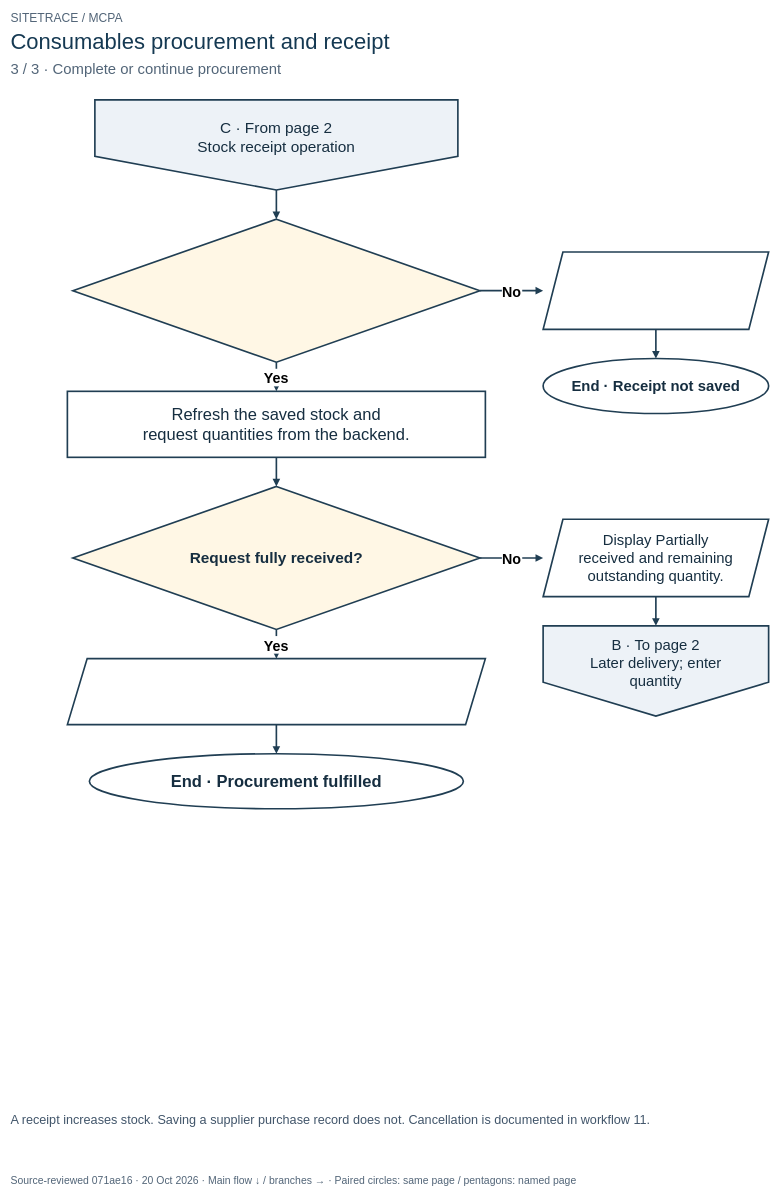
Some shapes in this 779 by 1198 pixel diagram are drawn without their labels. The centre of each missing label's shape, as x and y in pixels:
"Display Received request status and updated stock balance." belongs at point 276,691.
"Receipt committed?" belongs at point 276,290.
"Show conflict / error; reload quantities and retry stable operation." belongs at point 655,290.
